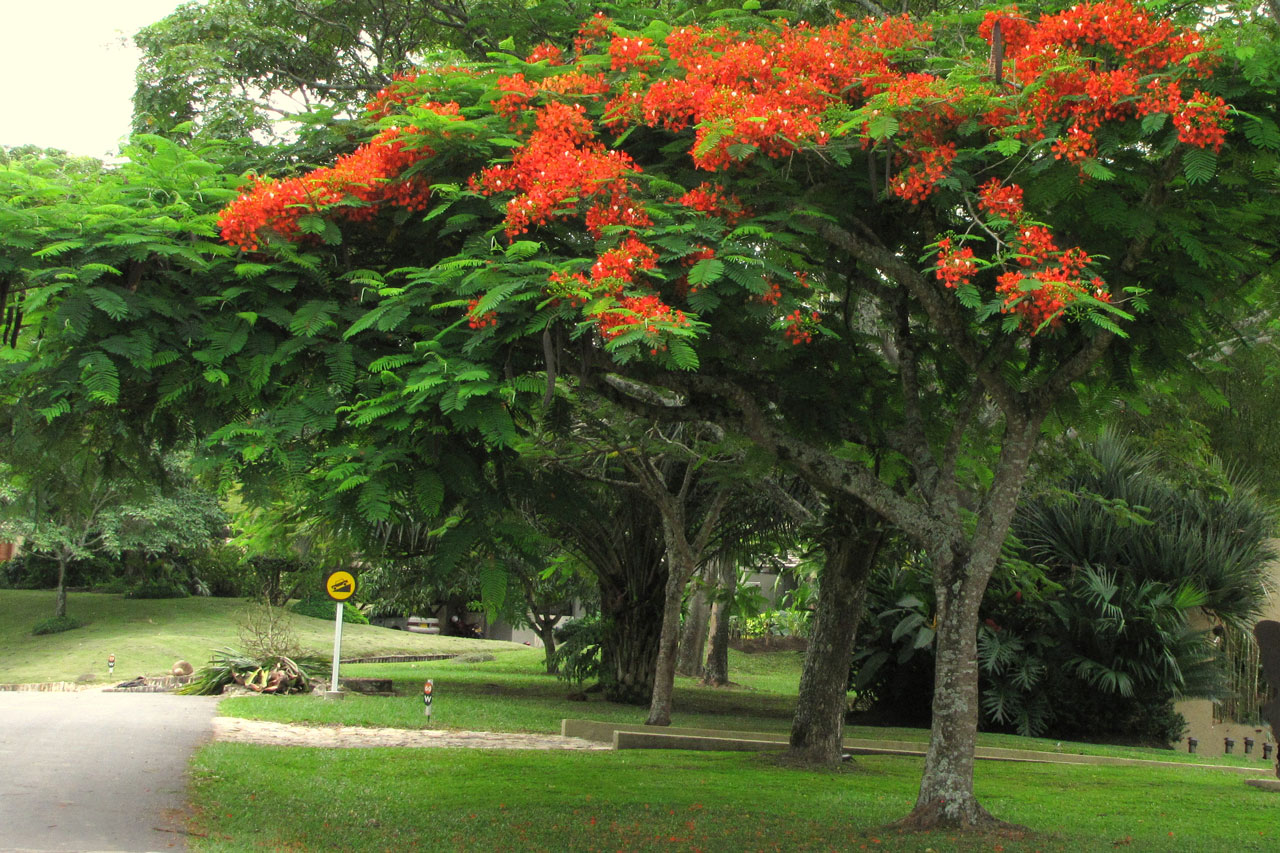grass: (207, 744, 914, 841), (239, 653, 635, 727), (975, 761, 1278, 841), (12, 592, 328, 668)
tree: (853, 412, 1051, 841), (646, 493, 726, 724), (54, 555, 69, 623)
